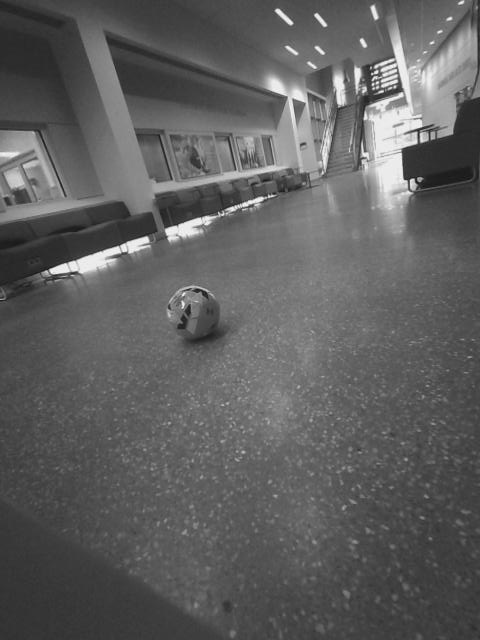ball: (162, 281, 223, 345)
